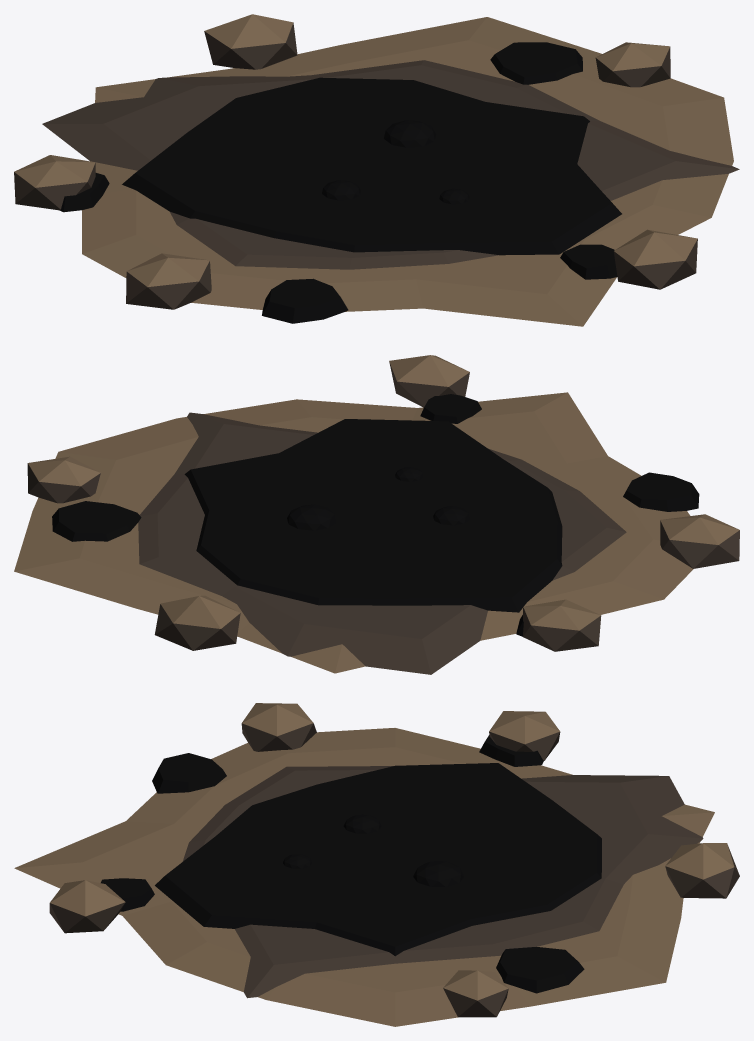
Rendered from oil_seep.glb.
3 renders of one model, top to bottom at view 1: azimuth 30°, elevation 25°; view 2: azimuth 150°, elevation 25°; view 3: azimuth 270°, elevation 25°, orthographic. The views are drawn at different scales.
Visible parts, largest first — view 1: oil_seep; view 2: oil_seep; view 3: oil_seep.
Part boxes in pixels (x1,y1,x2,y2): oil_seep: (14,14,739,326); oil_seep: (14,355,739,674); oil_seep: (14,703,739,1026).
Size of the model in its own units: 3.35 by 0.1989 by 3.34.
